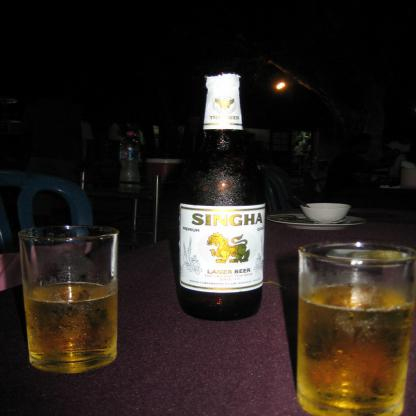drinking: (176, 71, 266, 321), (298, 240, 415, 415), (19, 225, 119, 373)
